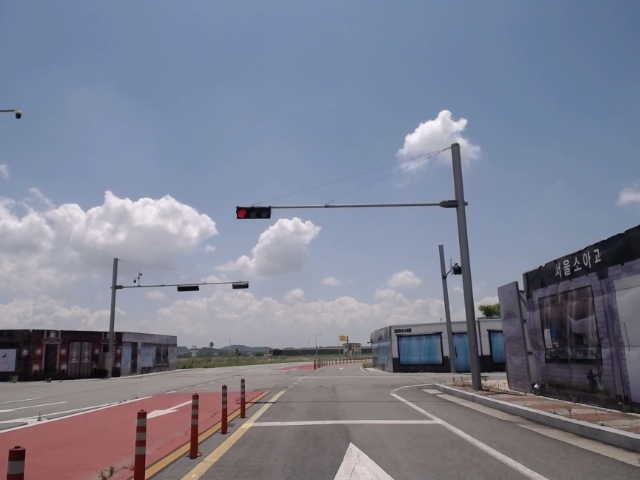red_3: (234, 207, 273, 218)
